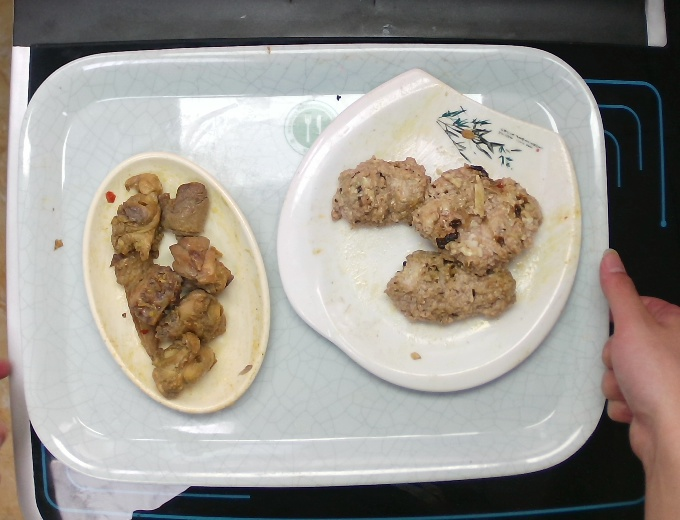JYsf-Mian_Pan: (270, 65, 586, 394)
JYsf-Tuo_Yuan_Wan: (78, 148, 273, 416)
